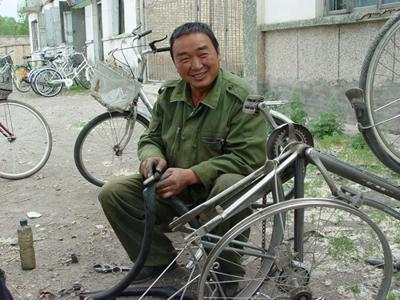person: (98, 22, 268, 300)
